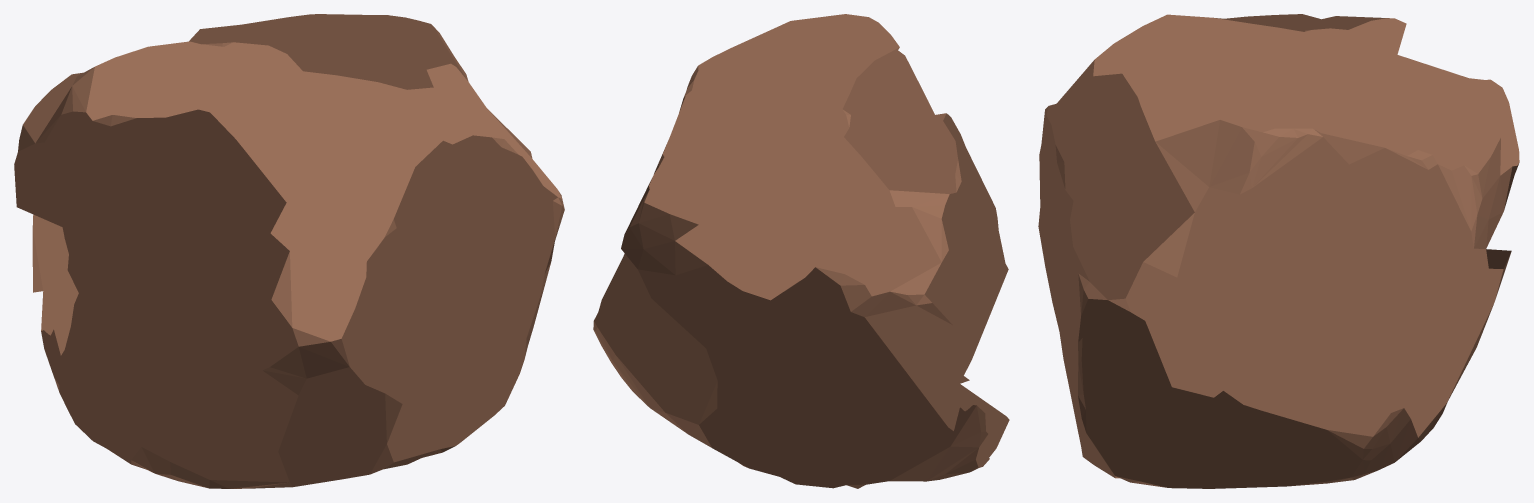
File: rock2.fbx
3 renders of one model, left to right at view 1: azimuth 30°, elevation 25°; view 2: azimuth 150°, elevation 25°; view 3: azimuth 270°, elevation 25°, orthographic. The views are drawn at different scales.
Visible parts, largest first — view 1: Cube; view 2: Cube; view 3: Cube.
Part boxes in pixels (x1,y1,x2,y2): Cube: (14, 14, 564, 488); Cube: (593, 14, 1009, 488); Cube: (1038, 14, 1519, 488).
Size of the model in its own units: 291 by 252 by 269.
